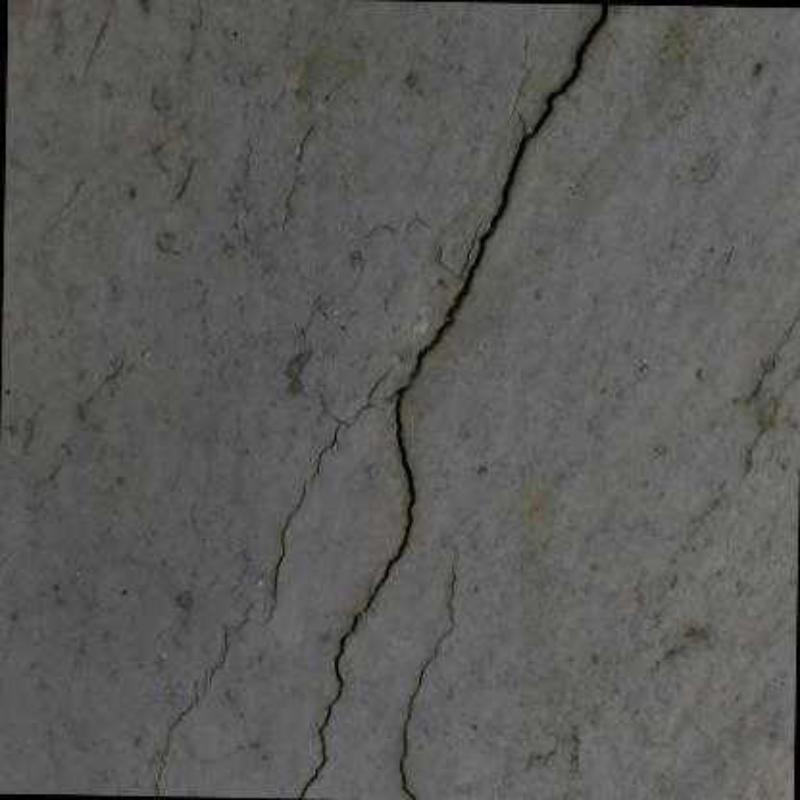pothole: (295, 3, 608, 798), (281, 371, 390, 550), (400, 563, 458, 798), (158, 629, 229, 798), (262, 550, 287, 627)
